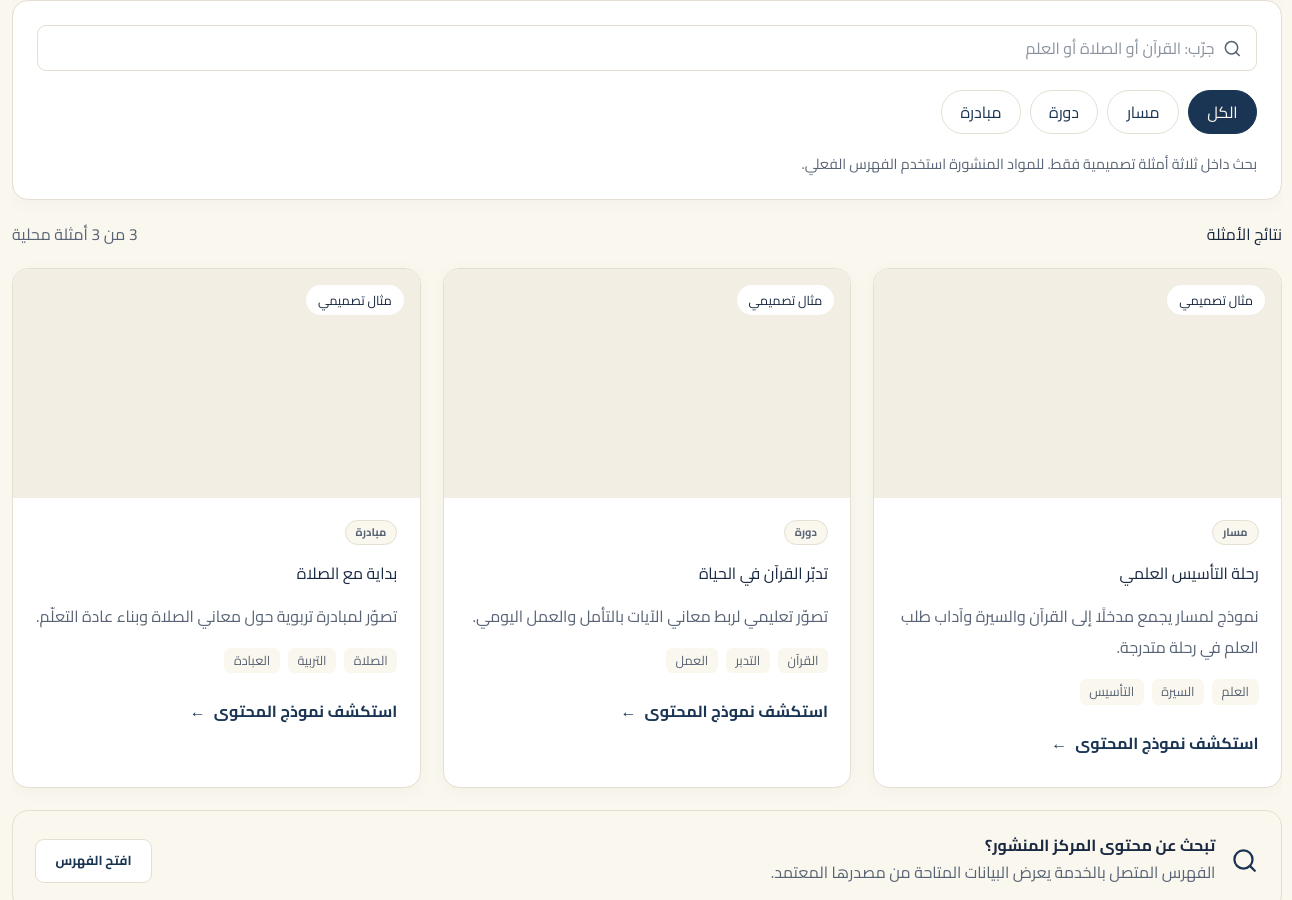
Scenario: public synthetic experience interactions › filters only local sample cards and offers an honest empty state
This screenshot has width=1292, height=900.
Check: the heading "تدبّر القرآن في الحياة" is shown, box x1=699 y1=561 x2=828 y2=585
Type "الصلاة" into the search field at point(628, 48), box x1=41 y1=27 x2=1214 y2=69
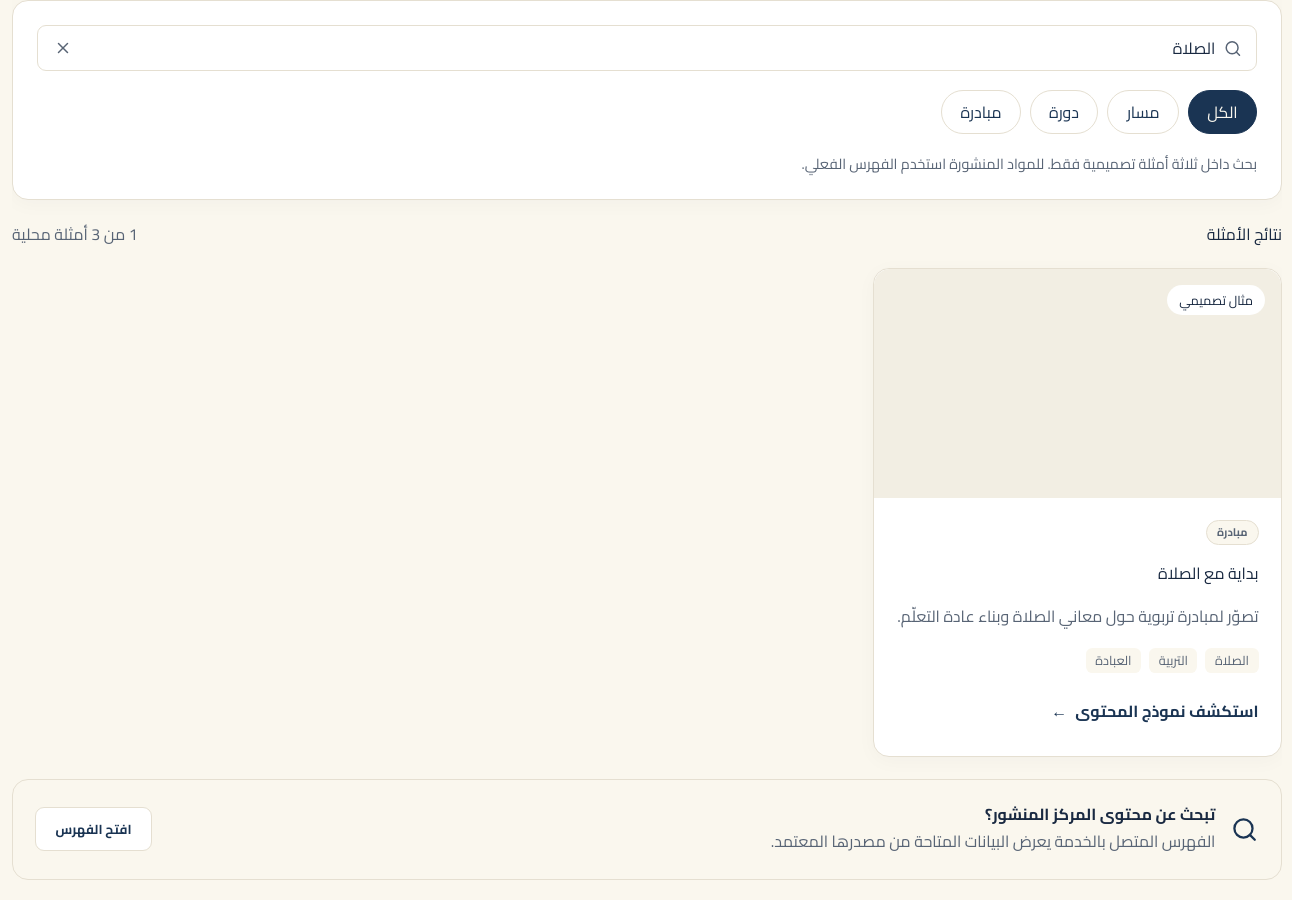
Check: the heading "بداية مع الصلاة" is shown, box x1=1158 y1=561 x2=1259 y2=585
Check: the heading "تدبّر القرآن في الحياة" is gone
Click the button "دورة" at point(1064, 112), box x1=1030 y1=90 x2=1098 y2=134
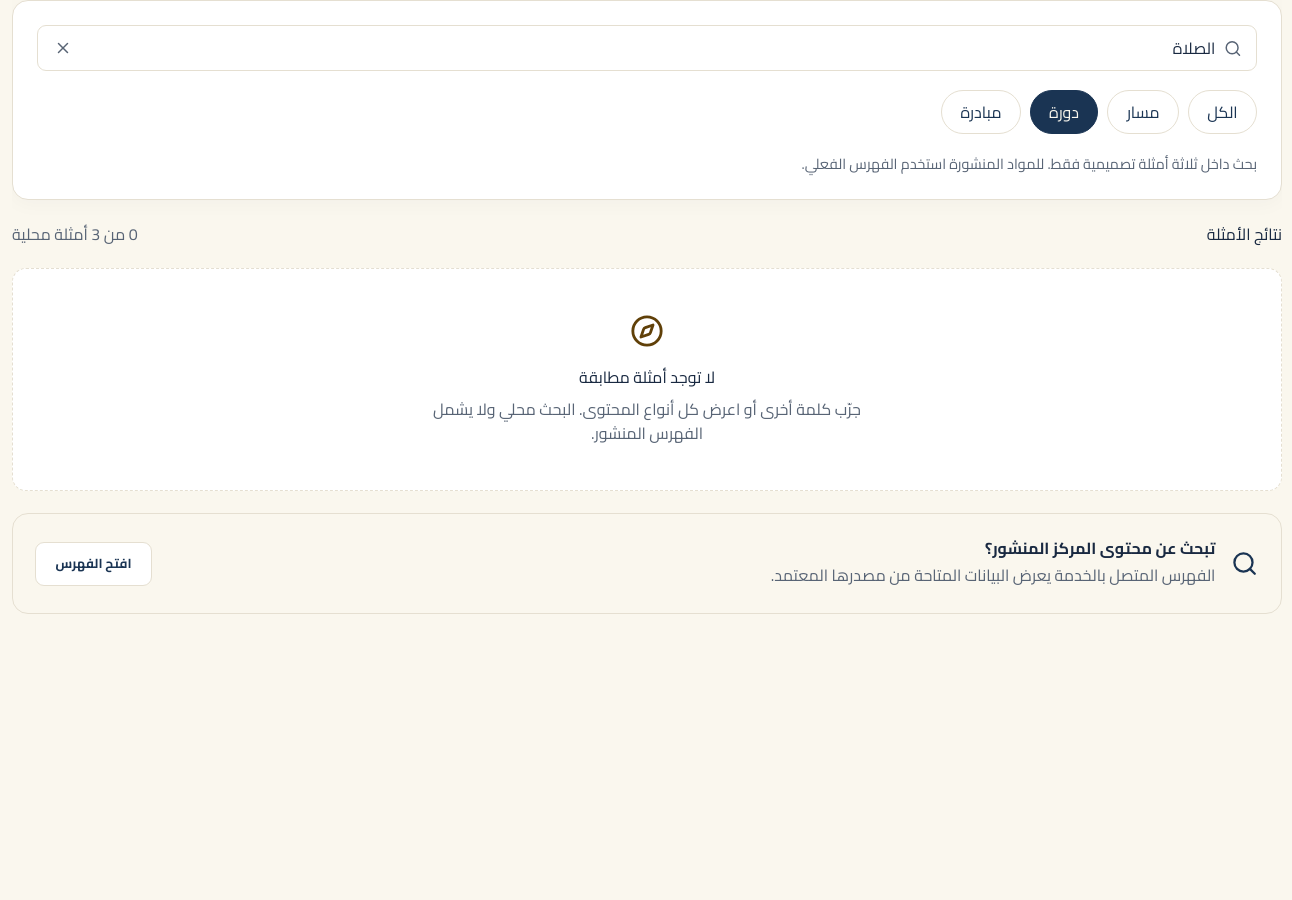
Check: the heading "لا توجد أمثلة مطابقة" is shown, box x1=579 y1=365 x2=715 y2=389
